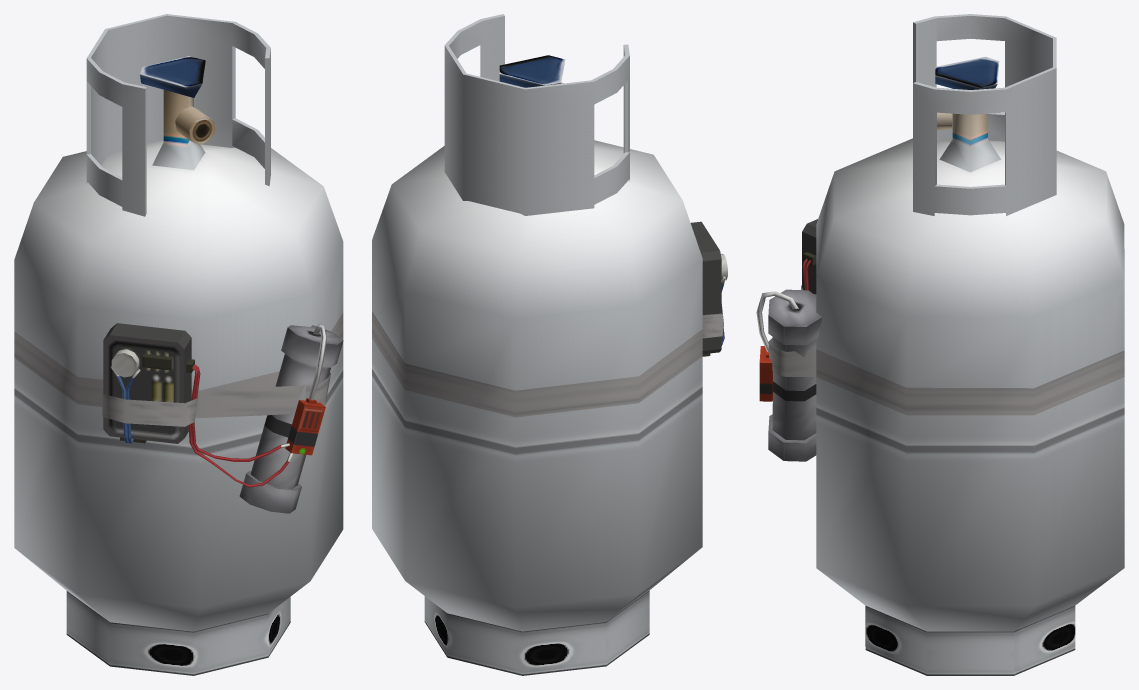
Rendered from PropaneBombTrigger_Mesh.fbx.
The picture shows the model from 3 angles, left to right: view 1: azimuth 30°, elevation 25°; view 2: azimuth 150°, elevation 25°; view 3: azimuth 270°, elevation 25°; orthographic projection.
Visible parts, largest first — view 1: PropaneTankBombTrigger; view 2: PropaneTankBombTrigger; view 3: PropaneTankBombTrigger.
Boxes of the visible parts, x1=… form: PropaneTankBombTrigger: x1=14, y1=14, x2=343, y2=675; PropaneTankBombTrigger: x1=372, y1=14, x2=727, y2=675; PropaneTankBombTrigger: x1=756, y1=14, x2=1124, y2=675.
Bounding box in the file's own units: 54.7 × 113 × 65.3.
